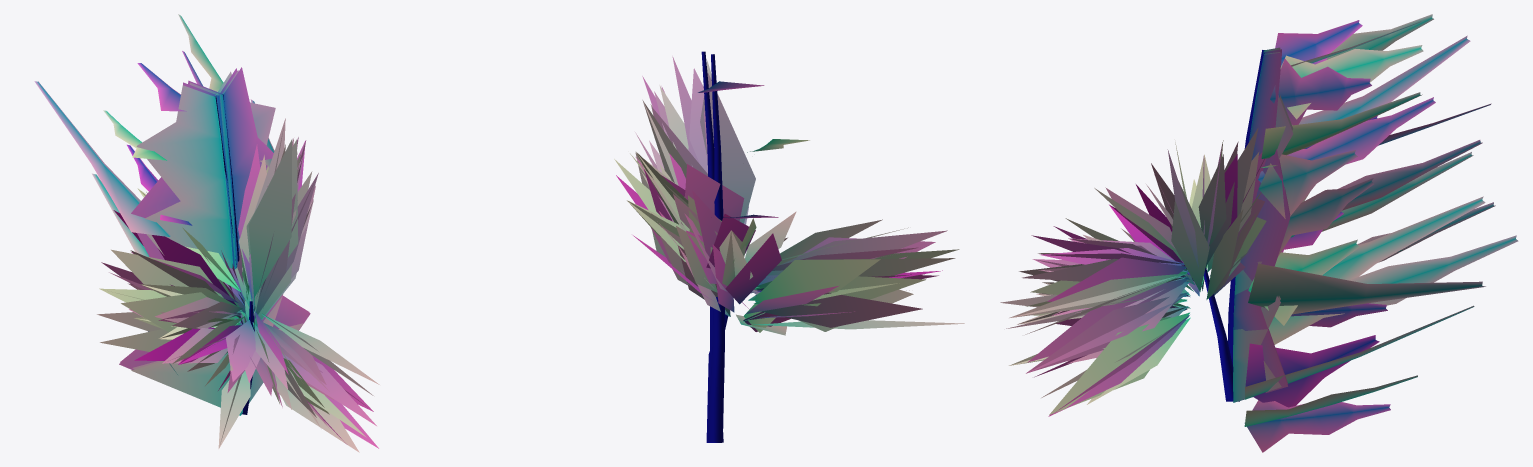
Rendered from golden-forest-foliage.glb.
3 renders of one model, left to right at view 1: azimuth 30°, elevation 25°; view 2: azimuth 150°, elevation 25°; view 3: azimuth 270°, elevation 25°, orthographic. The views are drawn at different scales.
Visible parts, largest first — view 1: pine_tuft_1, spruce_frond_0, pine_tuft_0, pine_clump_0, spruce_bough_0, spruce_bough_1, pine_clump_1, spruce_frond_1; view 2: pine_clump_0, pine_tuft_0, pine_tuft_1, pine_clump_1, spruce_frond_0, spruce_frond_1; view 3: spruce_frond_0, spruce_bough_1, spruce_bough_0, pine_tuft_0, spruce_frond_1, pine_tuft_1, pine_clump_0, pine_clump_1.
Part boxes in pixels (x1,y1,x2,y2): pine_tuft_1: [97, 118, 379, 448]; spruce_frond_0: [131, 14, 246, 415]; pine_tuft_0: [100, 137, 376, 448]; pine_clump_0: [109, 139, 359, 452]; spruce_bough_0: [34, 68, 309, 369]; spruce_bough_1: [120, 63, 310, 385]; pine_clump_1: [111, 140, 329, 414]; spruce_frond_1: [103, 70, 303, 415]; pine_clump_0: [630, 91, 955, 335]; pine_tuft_0: [627, 56, 964, 331]; pine_tuft_1: [614, 60, 947, 442]; pine_clump_1: [616, 68, 959, 332]; spruce_frond_0: [707, 54, 724, 442]; spruce_frond_1: [701, 51, 809, 442]; spruce_frond_0: [1227, 14, 1518, 426]; spruce_bough_1: [1233, 20, 1402, 407]; spruce_bough_0: [1245, 21, 1485, 399]; pine_tuft_0: [1000, 141, 1309, 404]; spruce_frond_1: [1226, 52, 1390, 452]; pine_tuft_1: [1009, 128, 1266, 416]; pine_clump_0: [1019, 211, 1257, 414]; pine_clump_1: [1006, 142, 1187, 328].
Bounding box in the file's own units: 0.9386 × 1.1 × 1.36.
